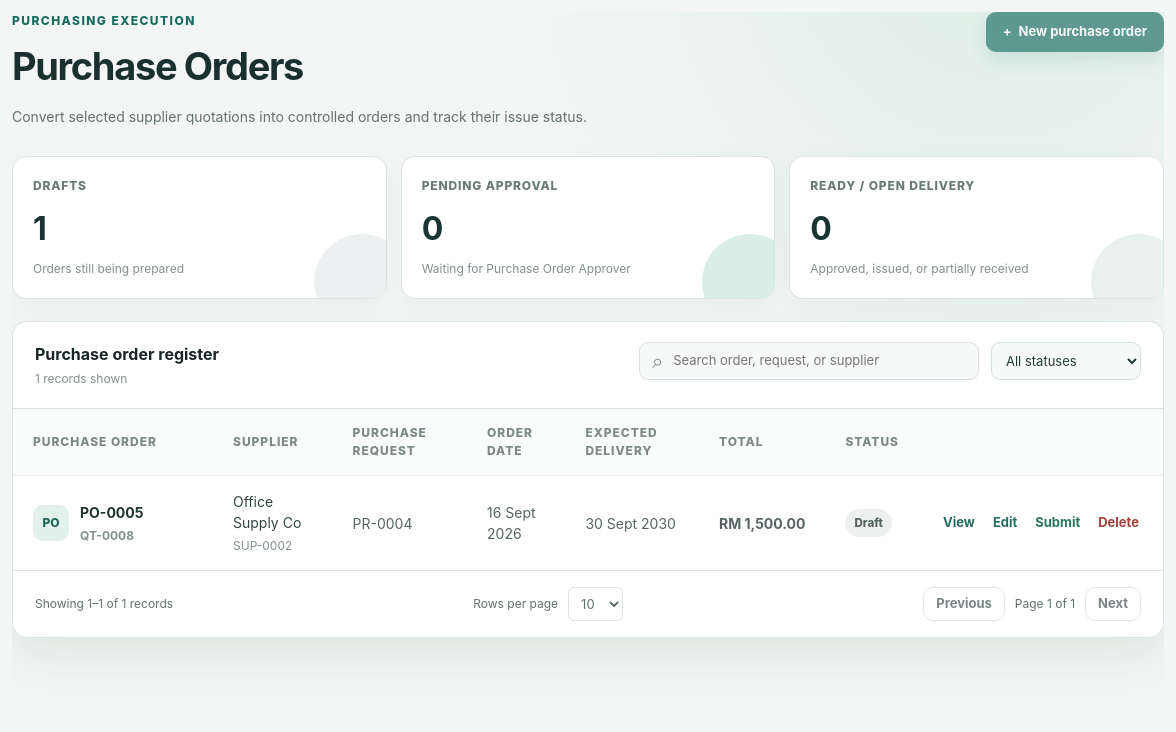
PurchaseOrderListView › submits a draft order for approval and reloads the register
Click the button "Submit". click: (1058, 523)
box: [1031,509,1084,537]
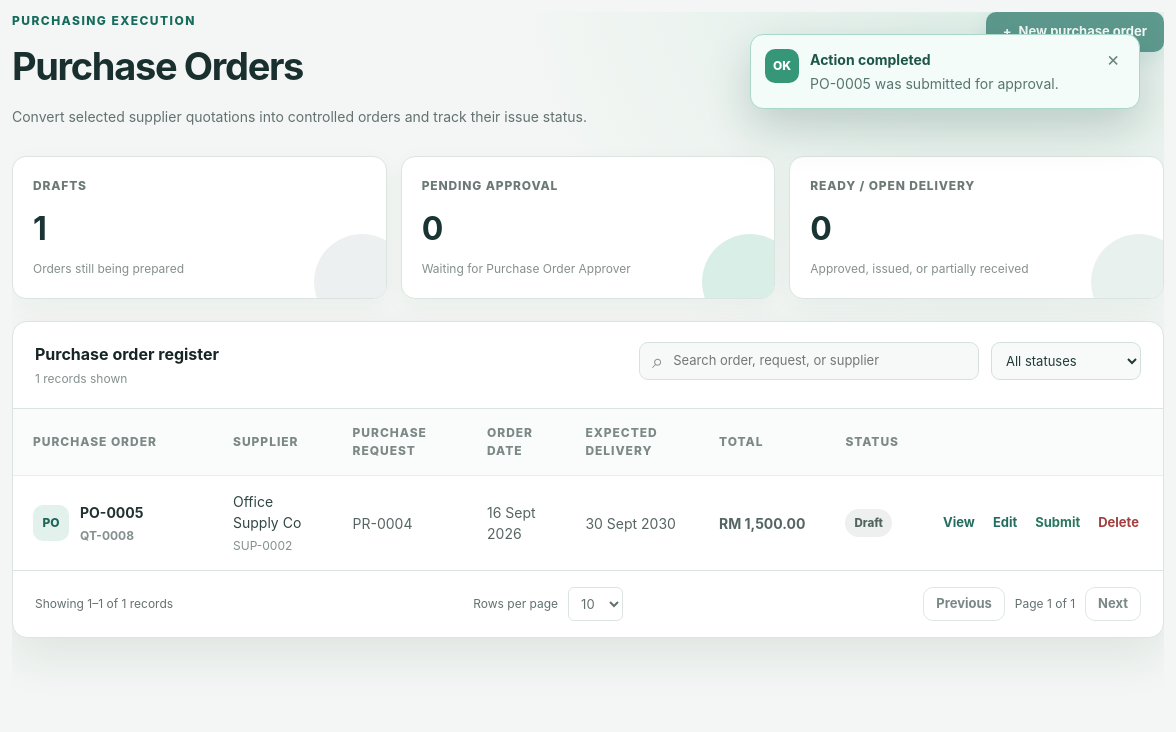
Expected: the message with class "success-toast" shows "submitted for approval", [810,75,1059,92]
